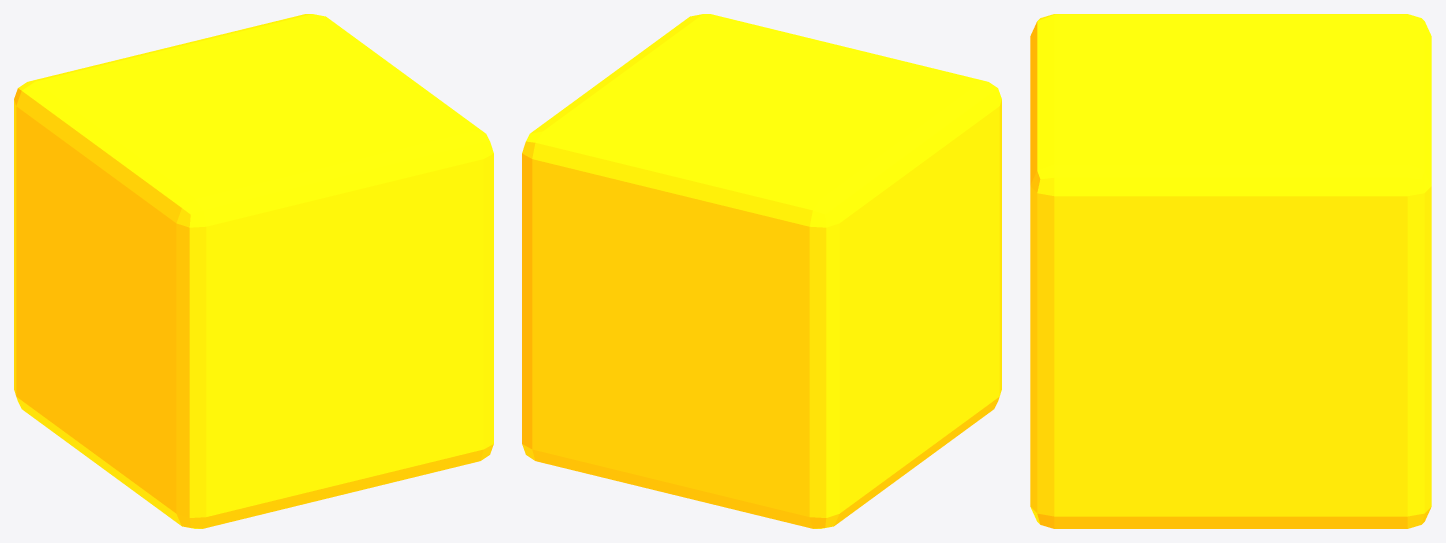
File: powerup.glb
3 views of the same model, side by side, from view 1: azimuth 30°, elevation 25°; view 2: azimuth 150°, elevation 25°; view 3: azimuth 270°, elevation 25° (orthographic). The views are drawn at different scales.
Visible parts, largest first — view 1: Powerup; view 2: Powerup; view 3: Powerup.
Boxes of the visible parts, x1,y1,x2,y2 form: Powerup: (14, 14, 493, 528); Powerup: (522, 14, 1001, 528); Powerup: (1030, 14, 1431, 528).
Bounding box in the file's own units: 0.5 × 0.5 × 0.5.
